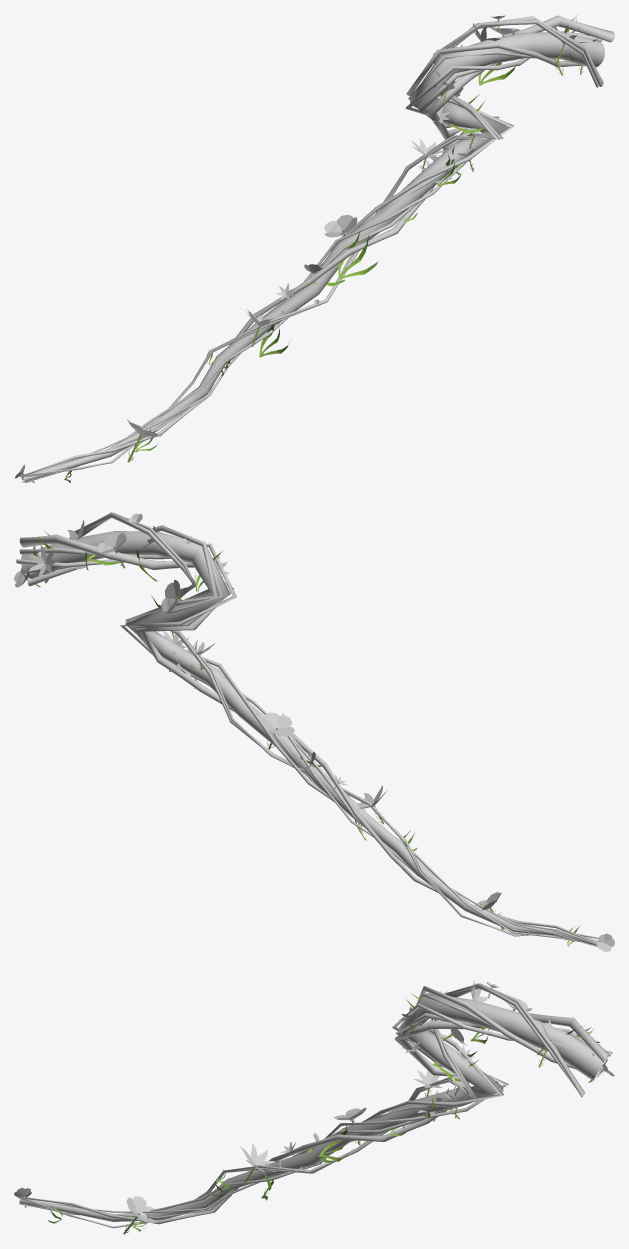
The model's file is vine_v2 7.fbx.
3 renders of one model, top to bottom at view 1: azimuth 30°, elevation 25°; view 2: azimuth 150°, elevation 25°; view 3: azimuth 330°, elevation 25°, orthographic. The views are drawn at different scales.
Parts seen in each view (by area): view 1: BezierCurve.011; view 2: BezierCurve.011; view 3: BezierCurve.011.
Part boxes in pixels (x1,y1,x2,y2): BezierCurve.011: [15, 15, 614, 483]; BezierCurve.011: [14, 512, 614, 951]; BezierCurve.011: [14, 981, 614, 1234].
Bounding box in the file's own units: 2376 × 1307 × 304.
